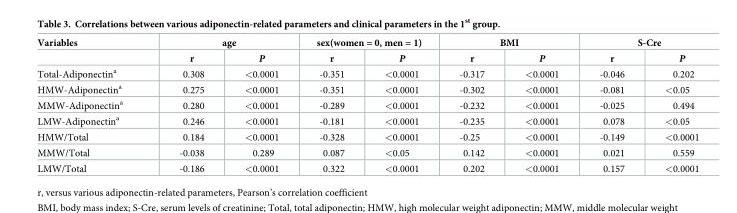table: (36, 37, 698, 173)
table column: (36, 37, 150, 173), (363, 37, 439, 173), (503, 37, 578, 173), (223, 37, 297, 173), (150, 37, 223, 173), (297, 37, 363, 173), (578, 37, 644, 173), (439, 37, 503, 173), (644, 37, 698, 173)
table column header: (36, 37, 698, 65)
table row: (36, 112, 698, 129), (36, 49, 698, 65), (36, 80, 698, 96), (36, 96, 698, 112), (36, 144, 698, 160), (36, 65, 698, 80), (36, 129, 698, 144), (36, 160, 698, 173), (36, 37, 698, 49)
table spanning cell: (36, 37, 150, 65), (150, 37, 297, 49), (297, 37, 439, 49), (439, 37, 578, 49), (578, 37, 698, 49)
